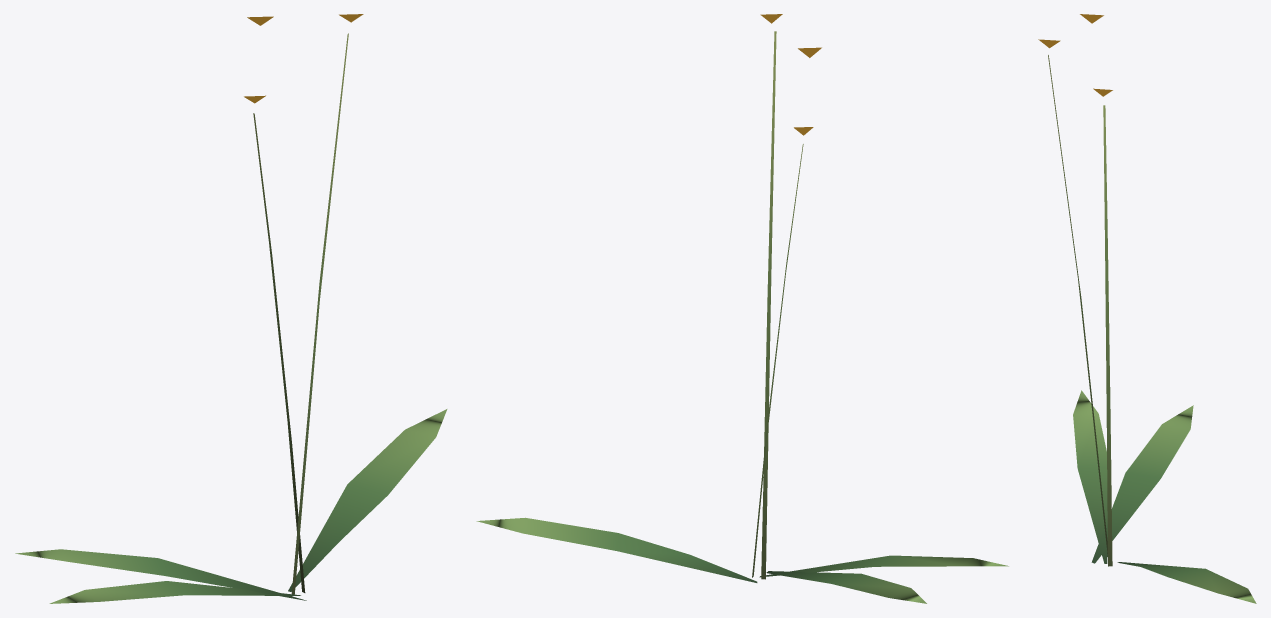
The model's file is RibwortPlantain_LOD2.glb.
3 views of the same model, side by side, from view 1: azimuth 30°, elevation 25°; view 2: azimuth 150°, elevation 25°; view 3: azimuth 270°, elevation 25° (orthographic). The views are drawn at different scales.
Visible parts, largest first — view 1: RibwortPlantain_LOD2; view 2: RibwortPlantain_LOD2; view 3: RibwortPlantain_LOD2.
Part boxes in pixels (left/top/right/bottom): RibwortPlantain_LOD2: left=15, top=14, right=447, bottom=603; RibwortPlantain_LOD2: left=476, top=14, right=1008, bottom=603; RibwortPlantain_LOD2: left=1038, top=14, right=1256, bottom=603.
Size of the model in its own units: 0.2404 by 0.2761 by 0.1032.
